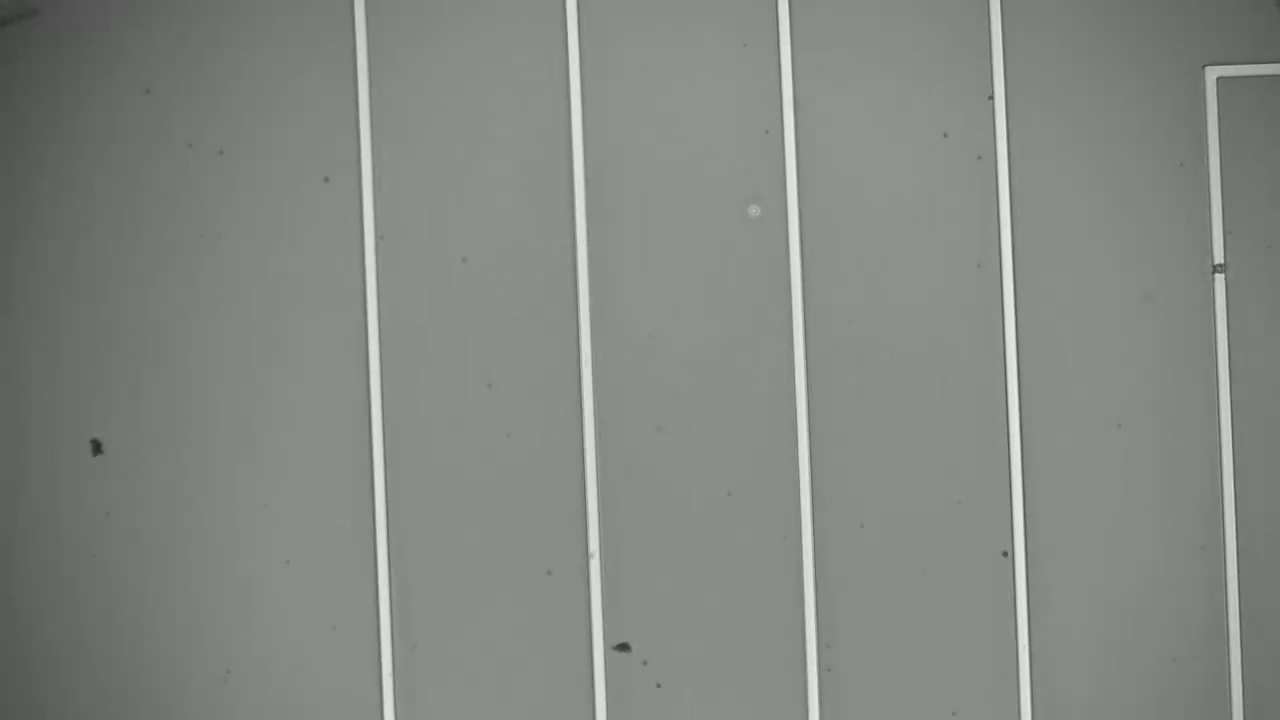stains_enbedded: (1211, 258, 1230, 279)
